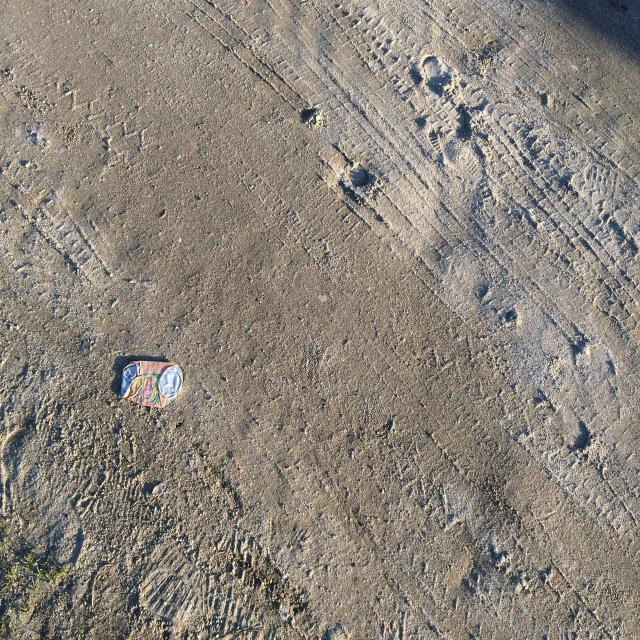less trash: (120, 360, 182, 408)
